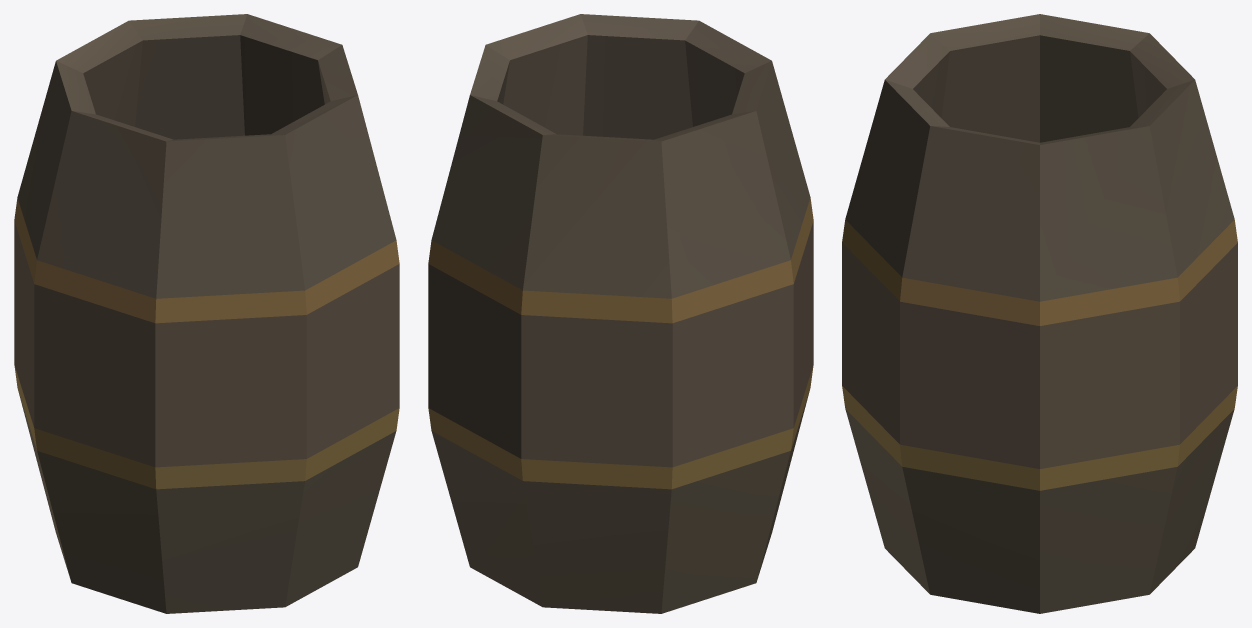
File: Prop-Barrel.fbx
The picture shows the model from 3 angles, left to right: view 1: azimuth 30°, elevation 25°; view 2: azimuth 150°, elevation 25°; view 3: azimuth 270°, elevation 25°; orthographic projection.
Parts seen in each view (by area): view 1: Prop-Barrel; view 2: Prop-Barrel; view 3: Prop-Barrel.
Boxes of the visible parts, <box> form: Prop-Barrel: <box>14,14,399,613</box>; Prop-Barrel: <box>428,14,813,613</box>; Prop-Barrel: <box>842,14,1237,613</box>.
Size of the model in its own units: 76.55 by 100 by 76.55.
